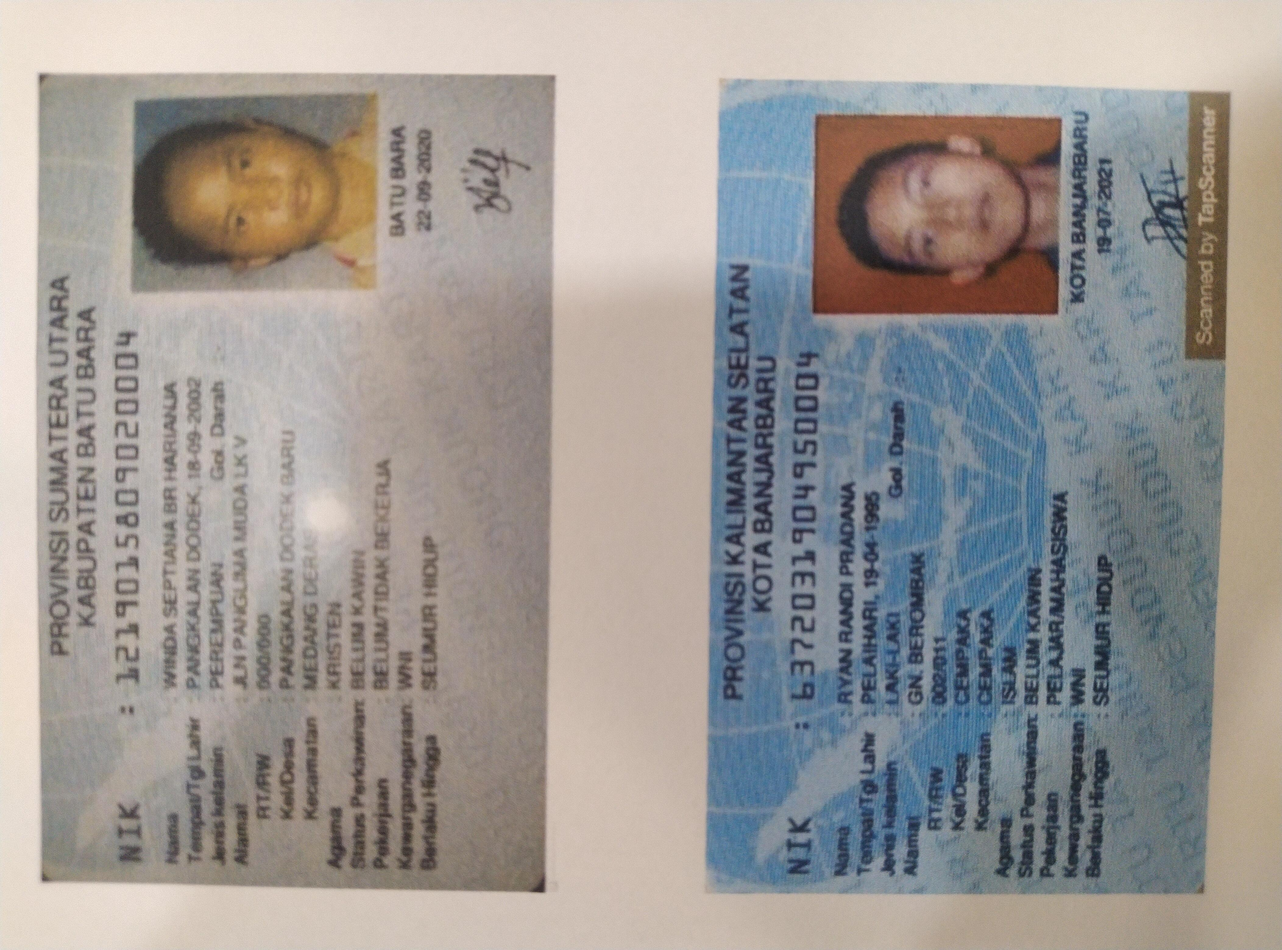ID-card: (75, 33, 1188, 409), (68, 525, 1169, 900)
